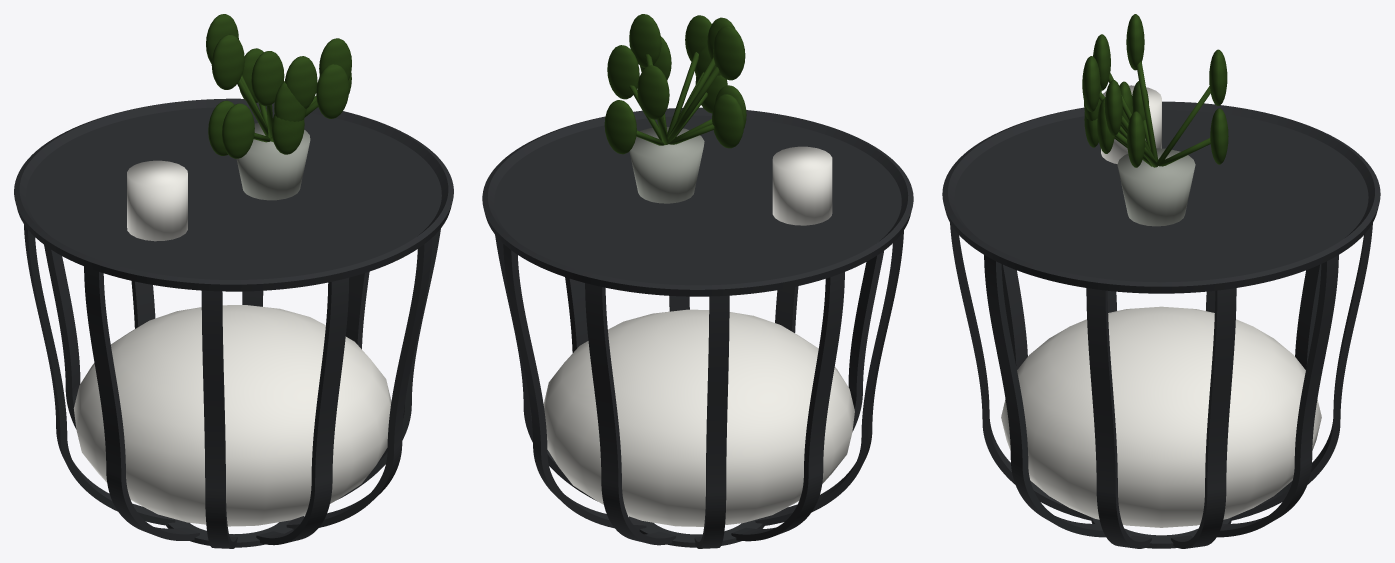
The model's file is Terrace_RightRearTable_Only.glb.
The picture shows the model from 3 angles, left to right: view 1: azimuth 30°, elevation 25°; view 2: azimuth 150°, elevation 25°; view 3: azimuth 270°, elevation 25°; orthographic projection. The views are drawn at different scales.
Visible parts, largest first — view 1: Side_table_round_top, White_sphere_under_table, Side_table_flat_rib_00, Side_table_flat_rib_08, Side_table_flat_rib_09, Table_small_cup, Side_table_flat_rib_01, Side_table_flat_rib_07, Planter.003, Side_table_flat_rib_06, Plant_leaf.046, Plant_leaf.042 (+12 smaller); view 2: Side_table_round_top, White_sphere_under_table, Side_table_flat_rib_05, Side_table_flat_rib_07, Side_table_flat_rib_06, Table_small_cup, Side_table_flat_rib_04, Planter.003, Side_table_flat_rib_08, Side_table_flat_rib_09, Plant_leaf.037, Plant_leaf.036 (+11 smaller); view 3: Side_table_round_top, White_sphere_under_table, Side_table_flat_rib_02, Side_table_flat_rib_03, Side_table_flat_rib_01, Side_table_flat_rib_04, Planter.003, Side_table_flat_rib_00, Side_table_flat_rib_05, Side_table_flat_rib_06, Side_table_flat_rib_09, Table_small_cup (+10 smaller).
Boxes of the visible parts, x1,y1,x2,y2 form: Side_table_round_top: [14, 98, 453, 291]; White_sphere_under_table: [73, 305, 391, 526]; Side_table_flat_rib_00: [256, 277, 349, 545]; Side_table_flat_rib_08: [84, 266, 199, 540]; Side_table_flat_rib_09: [201, 290, 237, 548]; Table_small_cup: [127, 160, 187, 241]; Side_table_flat_rib_01: [286, 237, 432, 530]; Side_table_flat_rib_07: [24, 224, 175, 525]; Planter.003: [236, 123, 310, 200]; Side_table_flat_rib_06: [44, 245, 80, 428]; Plant_leaf.046: [222, 103, 254, 158]; Plant_leaf.042: [211, 34, 244, 89]; Side_table_round_top: [482, 107, 913, 296]; White_sphere_under_table: [543, 309, 854, 526]; Side_table_flat_rib_05: [585, 283, 675, 545]; Side_table_flat_rib_07: [731, 272, 844, 541]; Side_table_flat_rib_06: [694, 295, 729, 548]; Table_small_cup: [772, 146, 832, 225]; Side_table_flat_rib_04: [503, 244, 646, 530]; Planter.003: [629, 127, 704, 203]; Side_table_flat_rib_08: [755, 231, 903, 525]; Side_table_flat_rib_09: [848, 251, 883, 431]; Plant_leaf.037: [637, 65, 669, 119]; Plant_leaf.036: [604, 100, 636, 154]; Side_table_round_top: [942, 101, 1380, 293]; White_sphere_under_table: [1001, 306, 1321, 527]; Side_table_flat_rib_02: [1086, 288, 1151, 548]; Side_table_flat_rib_03: [1171, 288, 1236, 548]; Side_table_flat_rib_01: [984, 255, 1105, 537]; Side_table_flat_rib_04: [1217, 255, 1338, 537]; Planter.003: [1117, 148, 1195, 226]; Side_table_flat_rib_00: [950, 223, 1092, 520]; Side_table_flat_rib_05: [1230, 223, 1372, 520]; Side_table_flat_rib_06: [1295, 264, 1321, 369]; Side_table_flat_rib_09: [1001, 264, 1027, 369]; Table_small_cup: [1101, 85, 1161, 163].
Size of the model in its own units: 0.874 by 1.09 by 0.874.
Materials: 4 (1 with a texture image).
